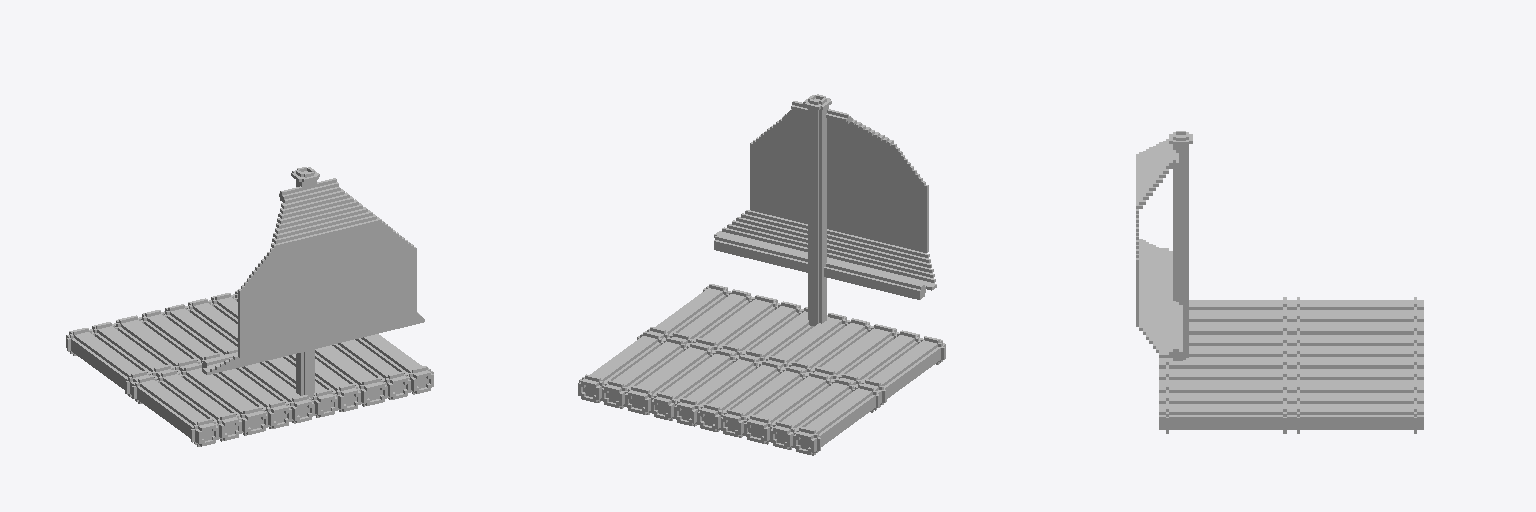
File: Raft.obj
3 views of the same model, side by side, from view 1: azimuth 30°, elevation 25°; view 2: azimuth 150°, elevation 25°; view 3: azimuth 270°, elevation 25° (orthographic).
Visible parts, largest first — view 1: object 1; view 2: object 1; view 3: object 1.
Boxes of the visible parts, box(x1,y1,x2,y2) form: object 1: box(66, 167, 433, 446); object 1: box(578, 94, 945, 455); object 1: box(1136, 131, 1423, 433).
Bounding box in the file's own units: 8.3 × 8 × 8.6.